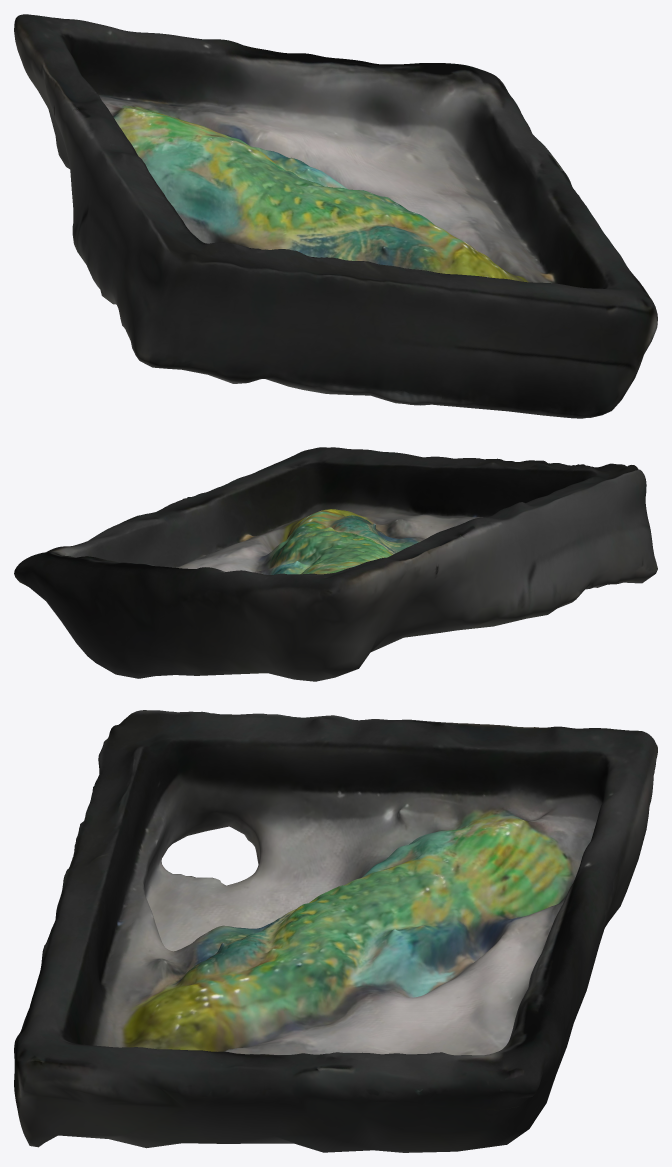
3 renders of one model, top to bottom at view 1: azimuth 30°, elevation 25°; view 2: azimuth 150°, elevation 25°; view 3: azimuth 270°, elevation 25°, orthographic. The views are drawn at different scales.
Bounding box in the file's own units: 0.727 × 0.328 × 0.7088.
Materials: 1 (1 with a texture image).
